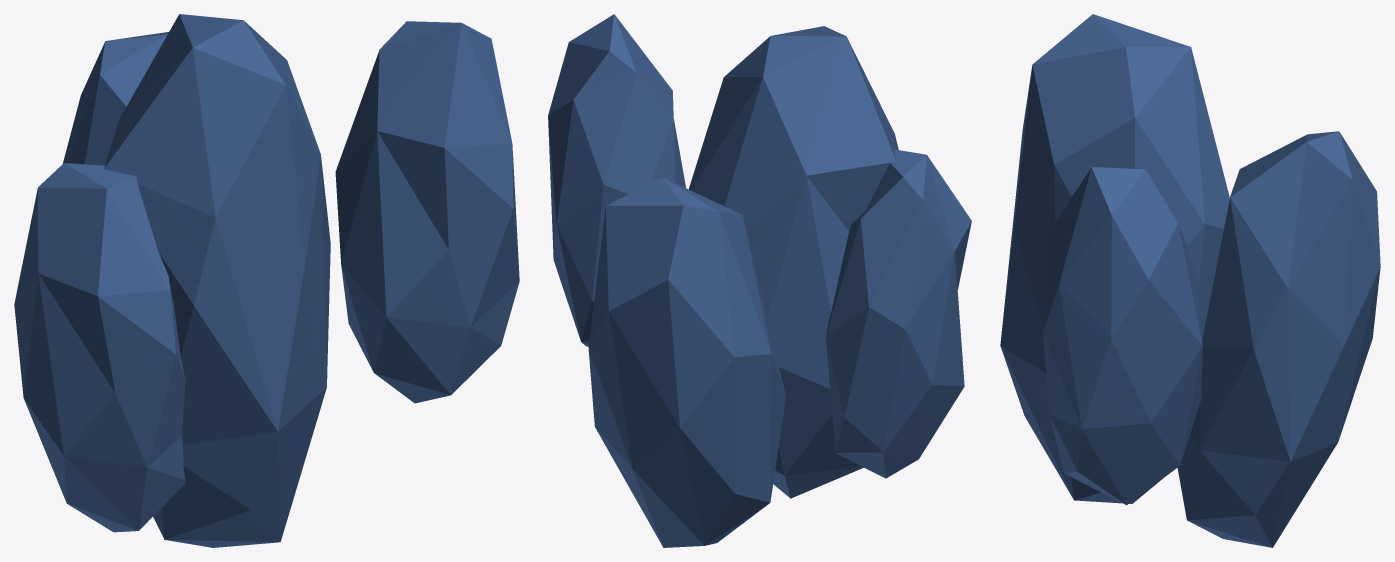
The model's file is tree-winter-leaves-13-043.glb.
The picture shows the model from 3 angles, left to right: view 1: azimuth 30°, elevation 25°; view 2: azimuth 150°, elevation 25°; view 3: azimuth 270°, elevation 25°; orthographic projection. The views are drawn at different scales.
Visible parts, largest first — view 1: TREE 13.005_191; view 2: TREE 13.005_191; view 3: TREE 13.005_191.
Part boxes in pixels (bbox=[...]): TREE 13.005_191: bbox=[14, 14, 519, 547]; TREE 13.005_191: bbox=[548, 14, 971, 547]; TREE 13.005_191: bbox=[1000, 14, 1380, 547].
Size of the model in its own units: 0.9813 by 1.11 by 0.7767.
